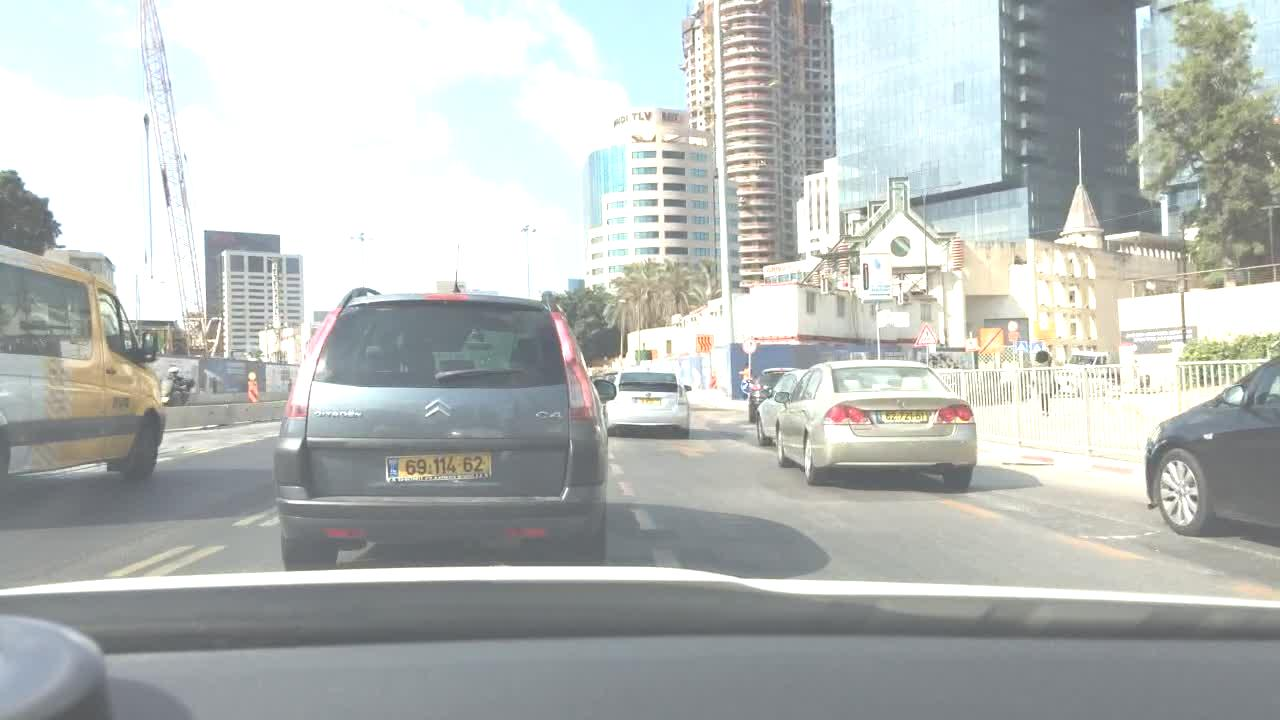Citroen: (417, 390, 463, 428)
